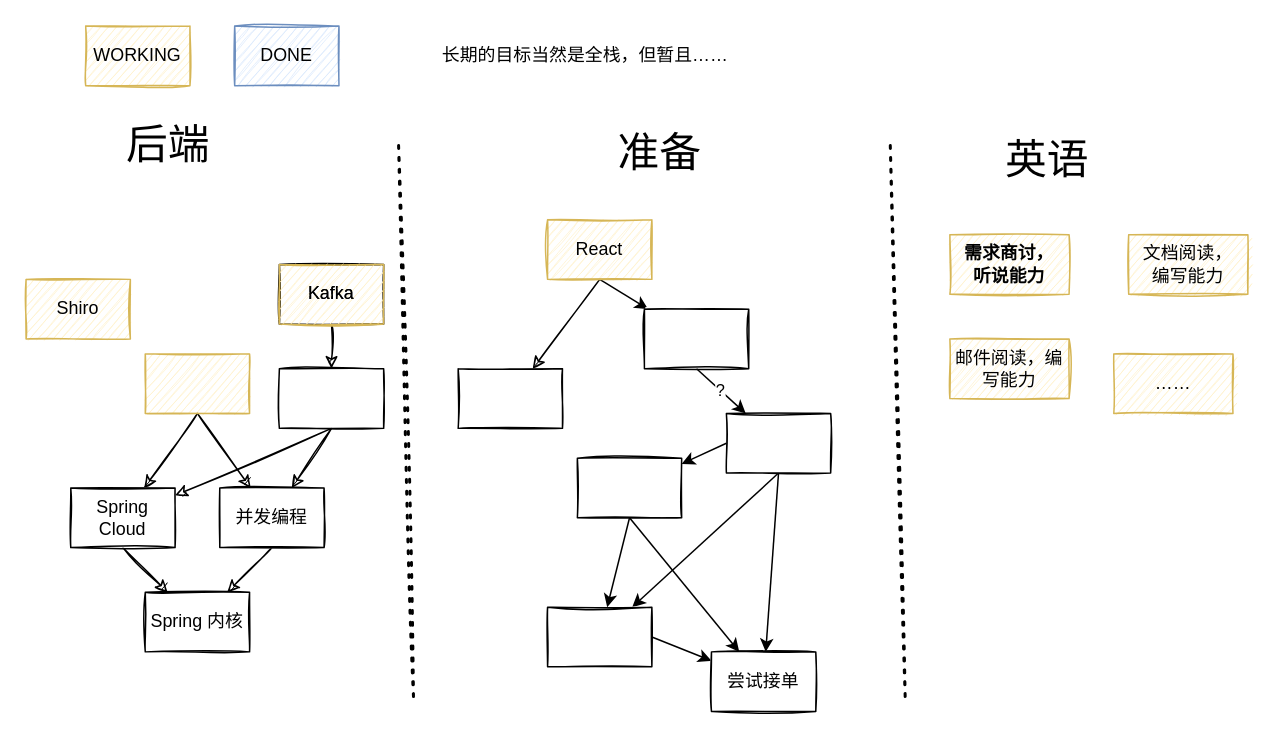
The diagram is 1274 pixels wide and 738 high, and some of its shapes have lost their labels. The centre of each missing label's shape, as x and y in pixels:
HTML, CSS: point (629, 487)
MERN: point (778, 442)
Oracle: point (331, 397)
Redis: point (197, 382)
TODO 项目前端: point (509, 397)
Webpack: point (696, 338)
博客重构: point (599, 636)
